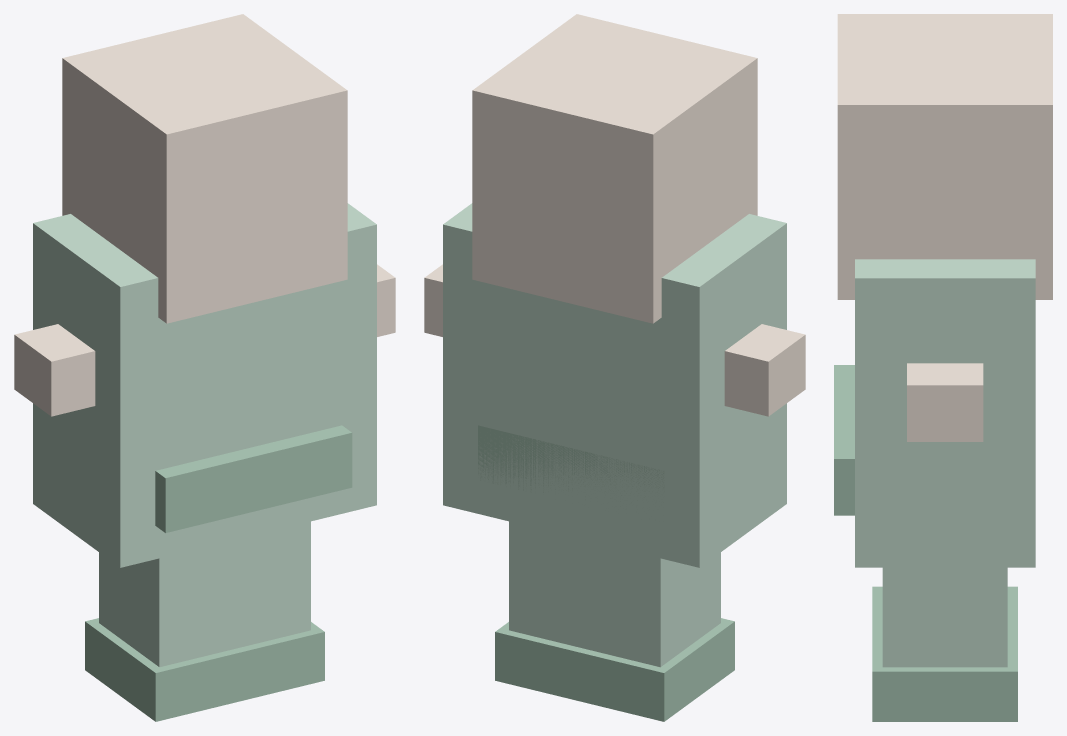
File: avatar-base.glb
3 views of the same model, side by side, from view 1: azimuth 30°, elevation 25°; view 2: azimuth 150°, elevation 25°; view 3: azimuth 270°, elevation 25° (orthographic). The views are drawn at different scales.
Visible parts, largest first — view 1: AvatarBody, AvatarHead, AvatarLegs, AvatarShoes, AvatarAccent, AvatarArms; view 2: AvatarBody, AvatarHead, AvatarLegs, AvatarShoes, AvatarArms, AvatarAccent; view 3: AvatarHead, AvatarBody, AvatarLegs, AvatarShoes, AvatarArms, AvatarAccent.
Boxes of the visible parts, x1,y1,x2,y2 form: AvatarBody: [33, 203, 376, 567]; AvatarHead: [62, 14, 347, 323]; AvatarLegs: [99, 521, 310, 667]; AvatarShoes: [85, 618, 324, 721]; AvatarAccent: [155, 425, 352, 532]; AvatarArms: [14, 264, 395, 416]; AvatarBody: [443, 203, 786, 567]; AvatarHead: [472, 14, 757, 323]; AvatarLegs: [509, 521, 720, 667]; AvatarShoes: [495, 618, 734, 721]; AvatarArms: [424, 264, 805, 416]; AvatarAccent: [478, 425, 664, 506]; AvatarHead: [837, 14, 1052, 299]; AvatarBody: [855, 259, 1035, 567]; AvatarLegs: [882, 567, 1007, 667]; AvatarShoes: [872, 586, 1017, 721]; AvatarArms: [907, 363, 983, 441]; AvatarAccent: [834, 365, 854, 515].
Size of the model in its own units: 1.18 by 1.98 by 0.63.
